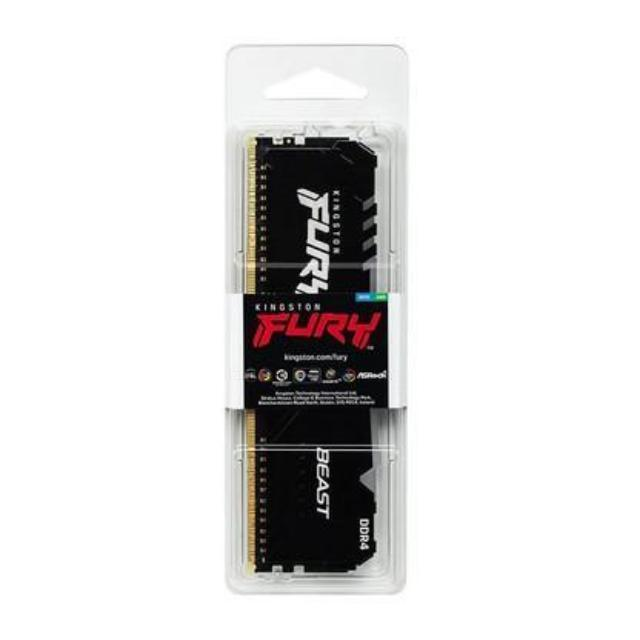RAM: (237, 130, 386, 578)
